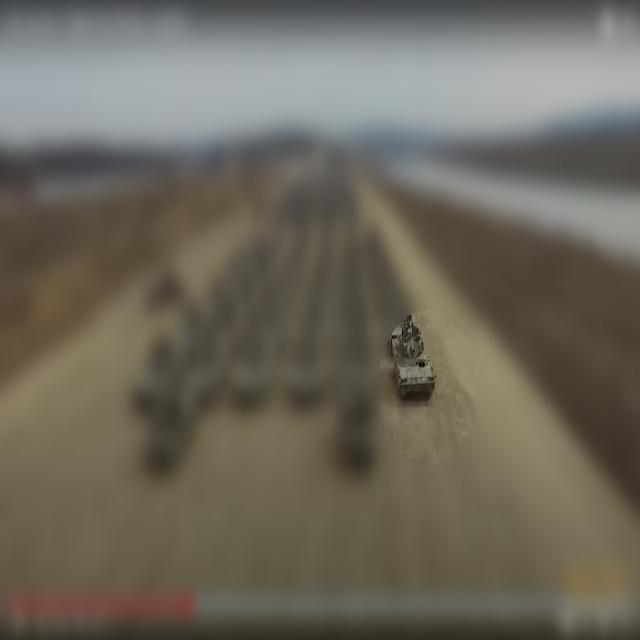tank: (388, 314, 436, 401)
